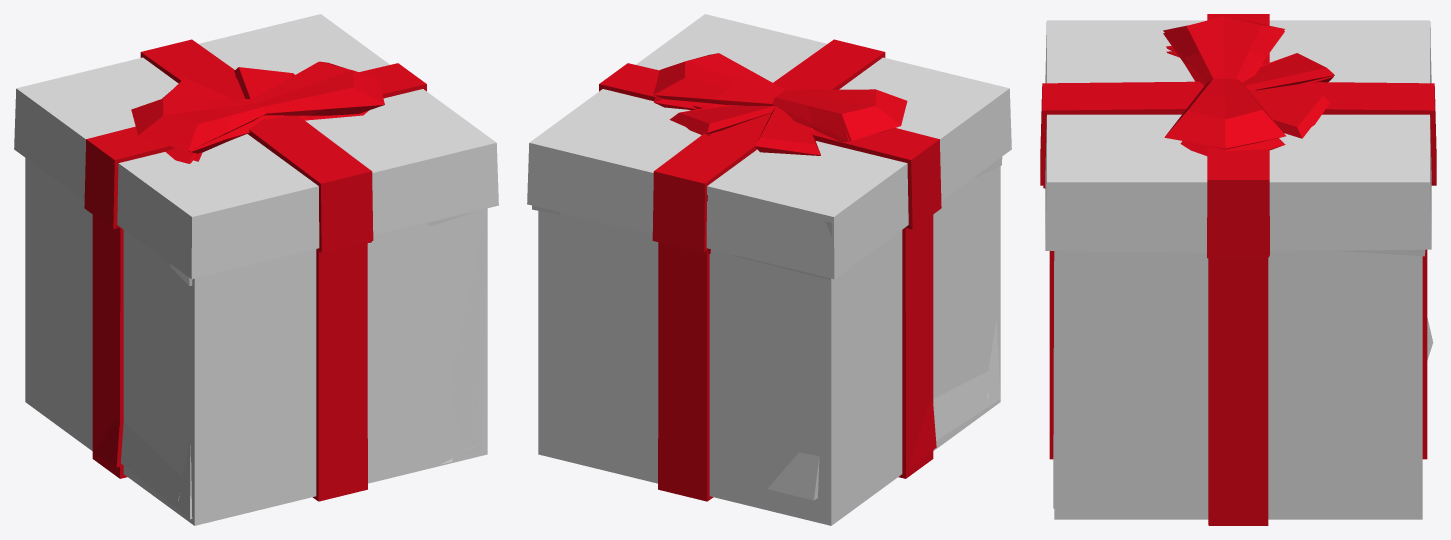
File: Present.fbx
3 renders of one model, left to right at view 1: azimuth 30°, elevation 25°; view 2: azimuth 150°, elevation 25°; view 3: azimuth 270°, elevation 25°, orthographic. The views are drawn at different scales.
Visible parts, largest first — view 1: PresentState1, PresentState2, PresentState3; view 2: PresentState1, PresentState3, PresentState4, PresentState2; view 3: PresentState1, PresentState2.
Part boxes in pixels (x1=…): PresentState1: x1=14, y1=14, x2=498, y2=525; PresentState2: x1=122, y1=75, x2=498, y2=497; PresentState3: x1=94, y1=148, x2=484, y2=519; PresentState1: x1=527, y1=14, x2=1011, y2=525; PresentState3: x1=532, y1=157, x2=1002, y2=469; PresentState4: x1=767, y1=390, x2=988, y2=500; PresentState2: x1=654, y1=96, x2=903, y2=161; PresentState1: x1=1040, y1=14, x2=1436, y2=525; PresentState2: x1=1043, y1=29, x2=1426, y2=524.
Size of the model in its own units: 215 by 227 by 215.
